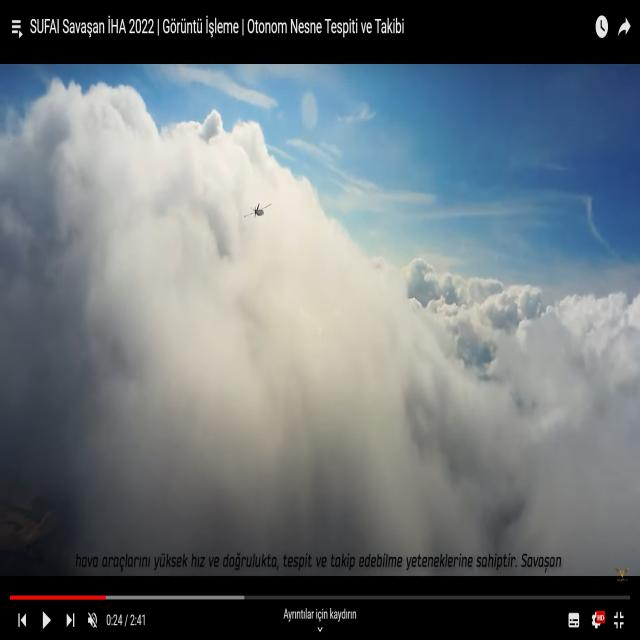iha: (243, 203, 272, 220)
